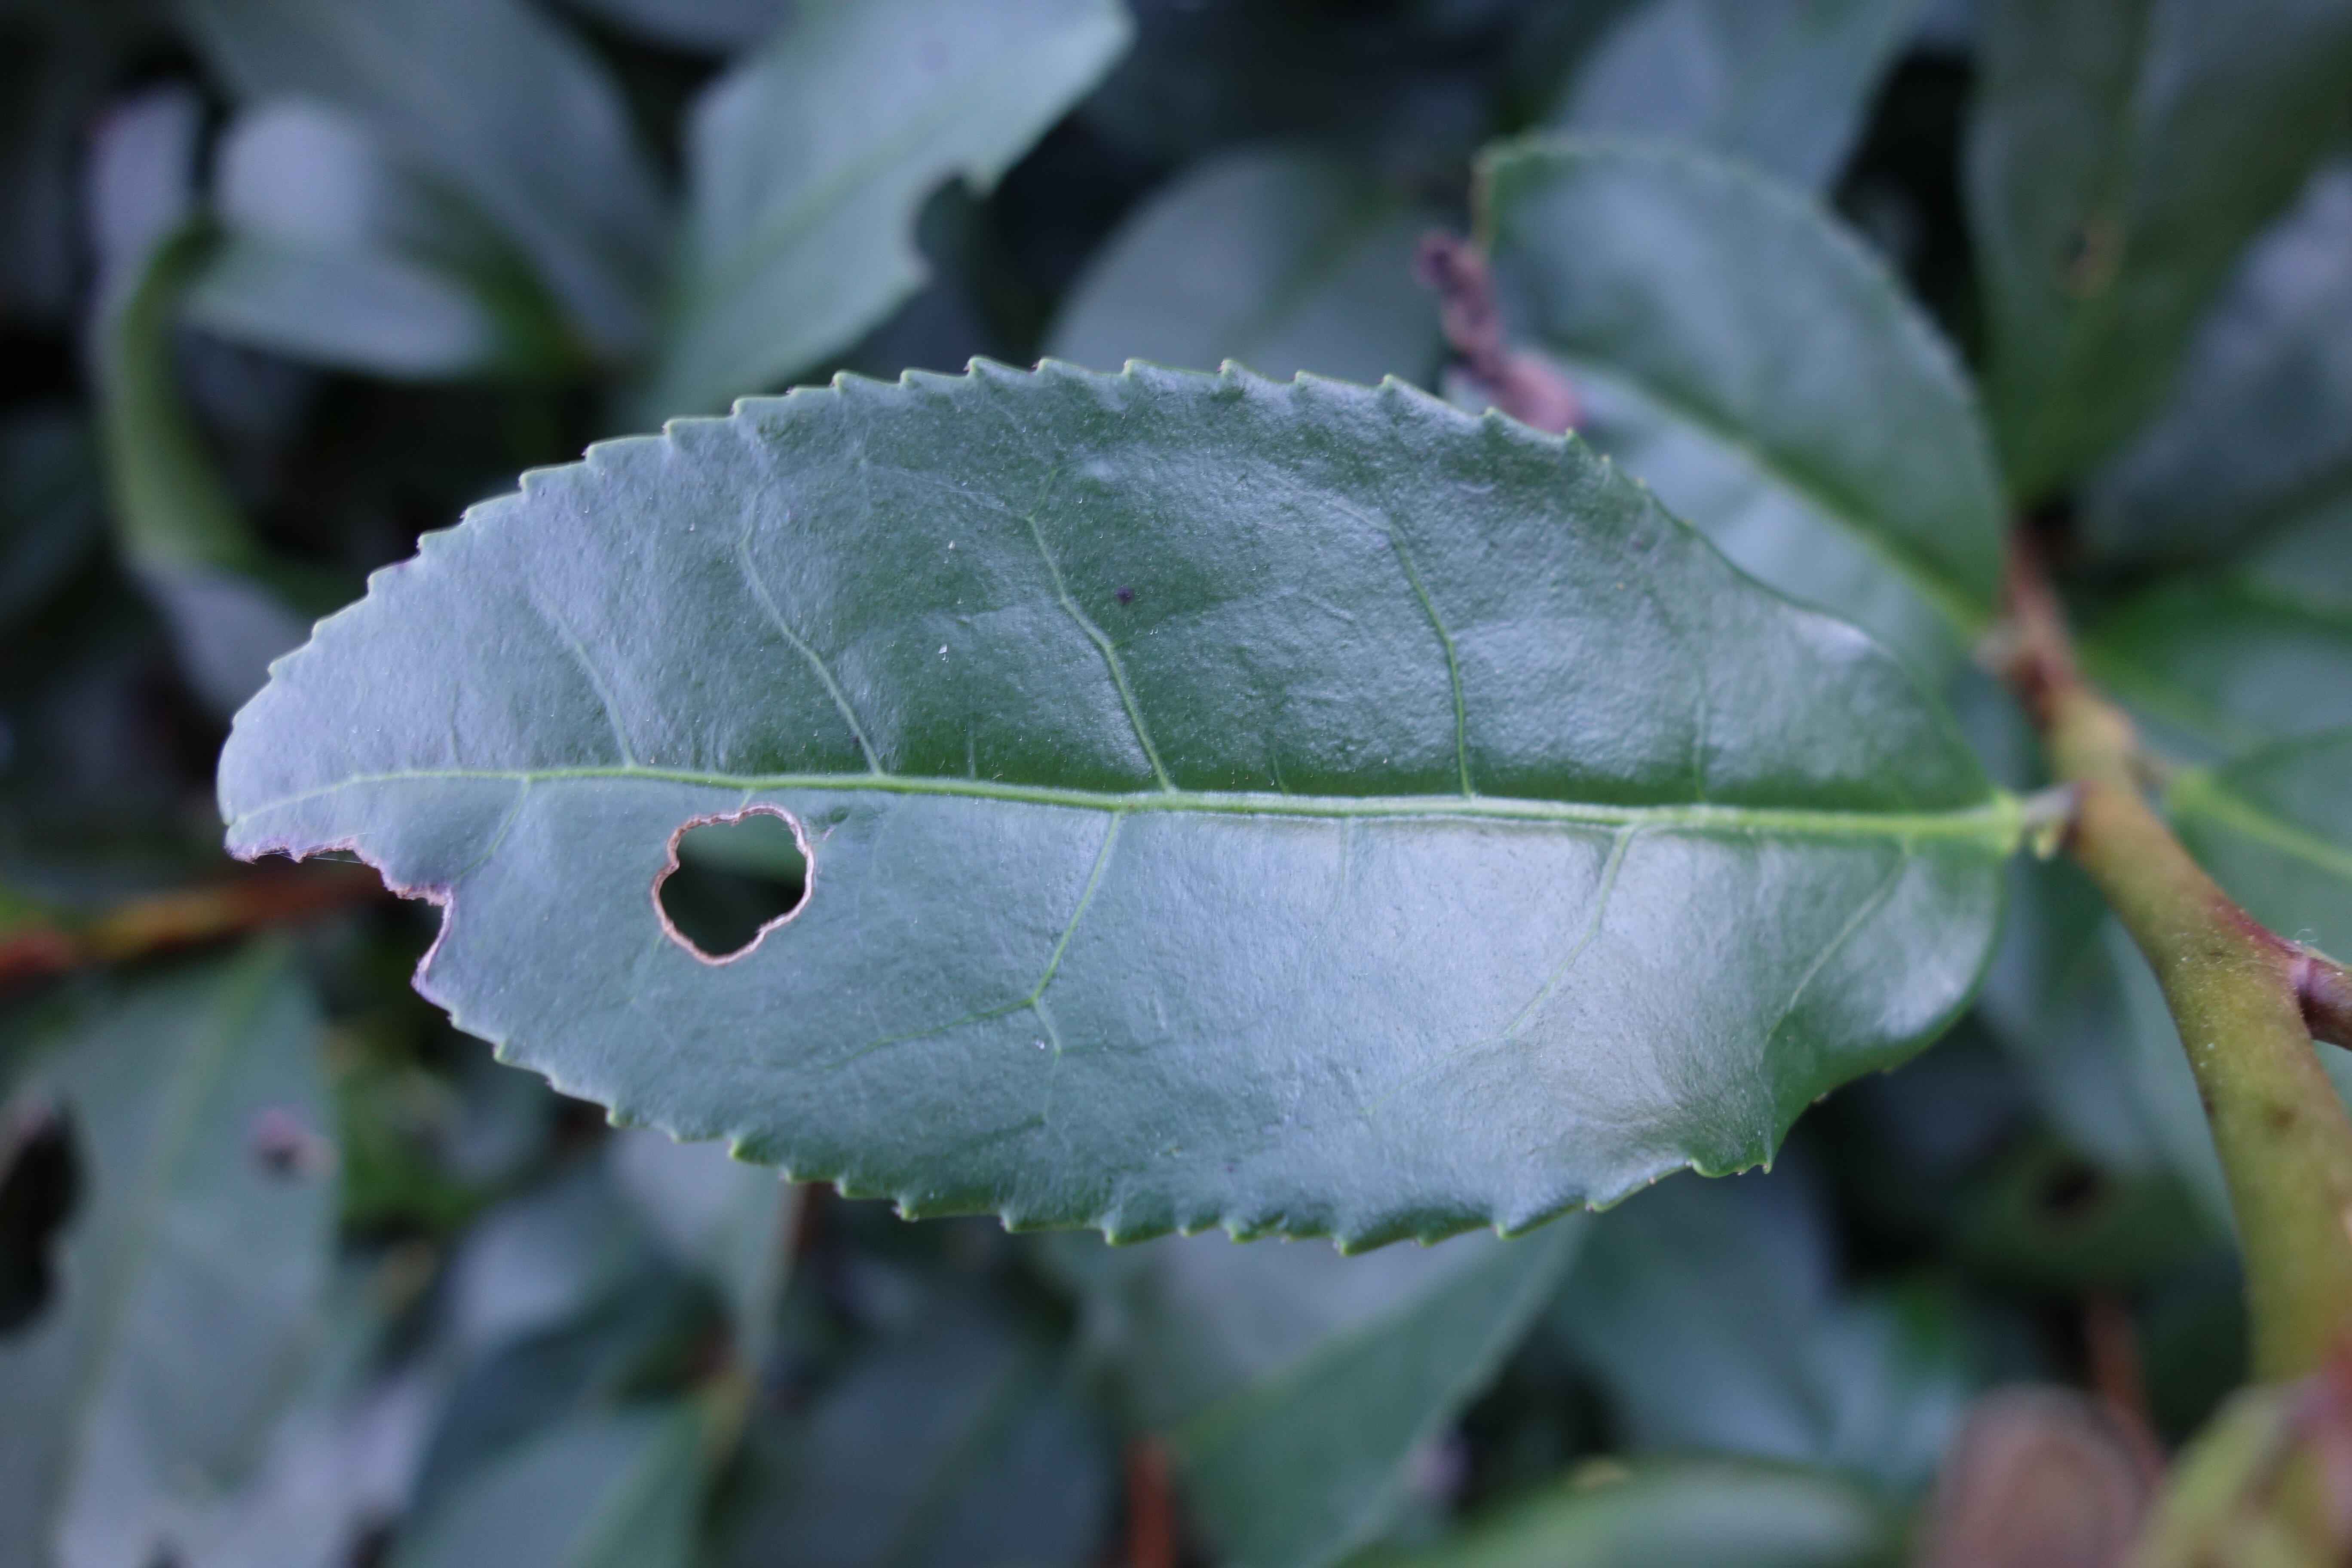chihuo_high: (212, 362, 2028, 1260)
